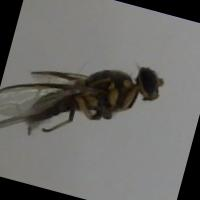Oriental-fruit-fly: (0, 25, 177, 175)
